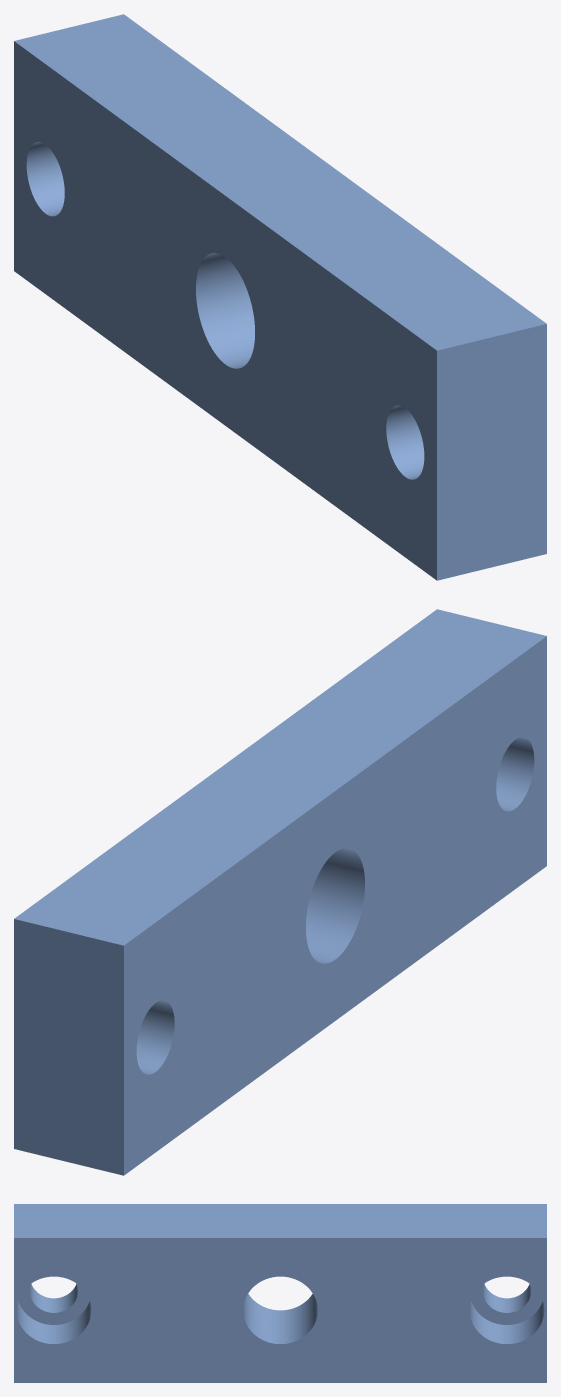
File: step_12.glb
The picture shows the model from 3 angles, top to bottom: view 1: azimuth 30°, elevation 25°; view 2: azimuth 150°, elevation 25°; view 3: azimuth 270°, elevation 25°; orthographic projection. The views are drawn at different scales.
Parts seen in each view (by area): view 1: part__end block; view 2: part__end block; view 3: part__end block.
Boxes of the visible parts, bbox=[...] form: part__end block: bbox=[14, 14, 546, 580]; part__end block: bbox=[14, 609, 546, 1175]; part__end block: bbox=[14, 1204, 546, 1382].
Bounding box in the file's own units: 15 × 30 × 100.
